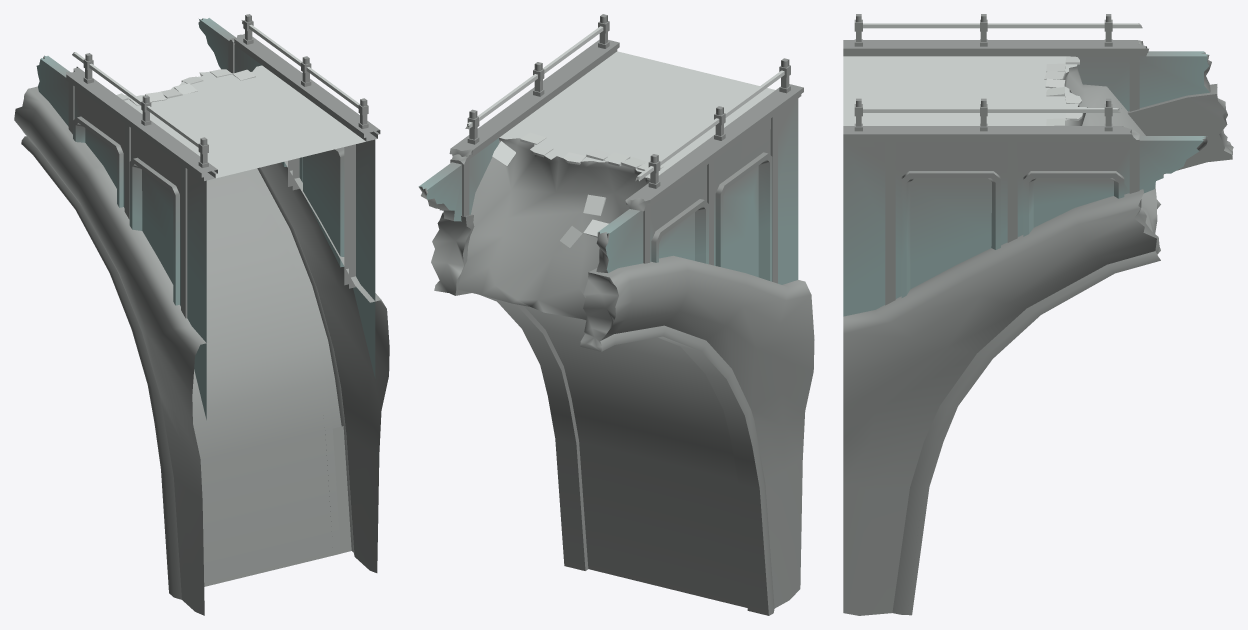
The picture shows the model from 3 angles, left to right: view 1: azimuth 30°, elevation 25°; view 2: azimuth 150°, elevation 25°; view 3: azimuth 270°, elevation 25°; orthographic projection. The views are drawn at different scales.
Visible parts, largest first — view 1: G:\FFXIV-MapTools\exports\e3ec\bg\ex2\02_est_e3\fld\e3f2\bgp (×6); view 2: G:\FFXIV-MapTools\exports\e3ec\bg\ex2\02_est_e3\fld\e3f2\bgp (×6); view 3: G:\FFXIV-MapTools\exports\e3ec\bg\ex2\02_est_e3\fld\e3f2\bgp (×6).
Part boxes in pixels (<box>): G:\FFXIV-MapTools\exports\e3ec\bg\ex2\02_est_e3\fld\e3f2\bgp (×6): <box>14,14,389,615</box>; G:\FFXIV-MapTools\exports\e3ec\bg\ex2\02_est_e3\fld\e3f2\bgp (×6): <box>419,14,814,615</box>; G:\FFXIV-MapTools\exports\e3ec\bg\ex2\02_est_e3\fld\e3f2\bgp (×6): <box>843,14,1233,615</box>.
Bounding box in the file's own units: 13.5 × 30.59 × 21.08.
